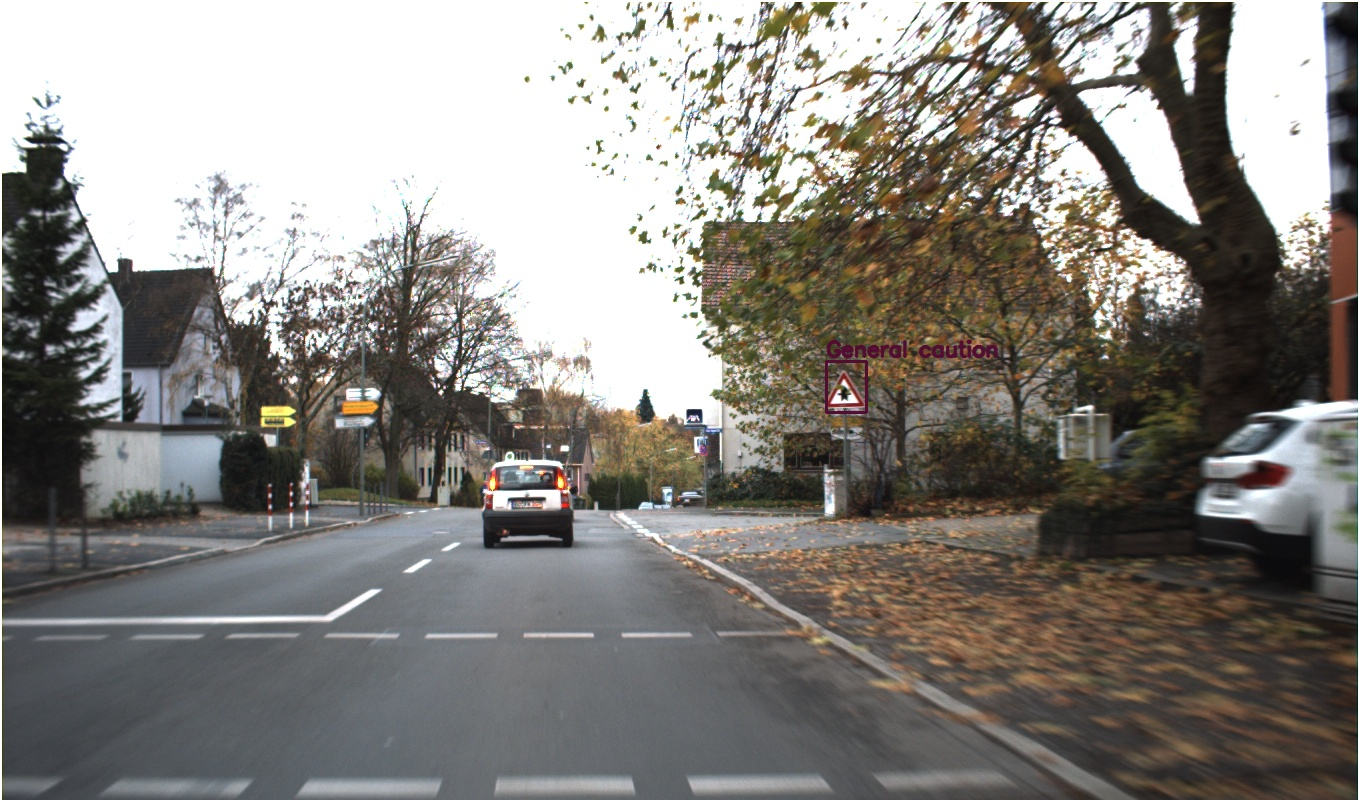Road work: (870, 313, 942, 378)
